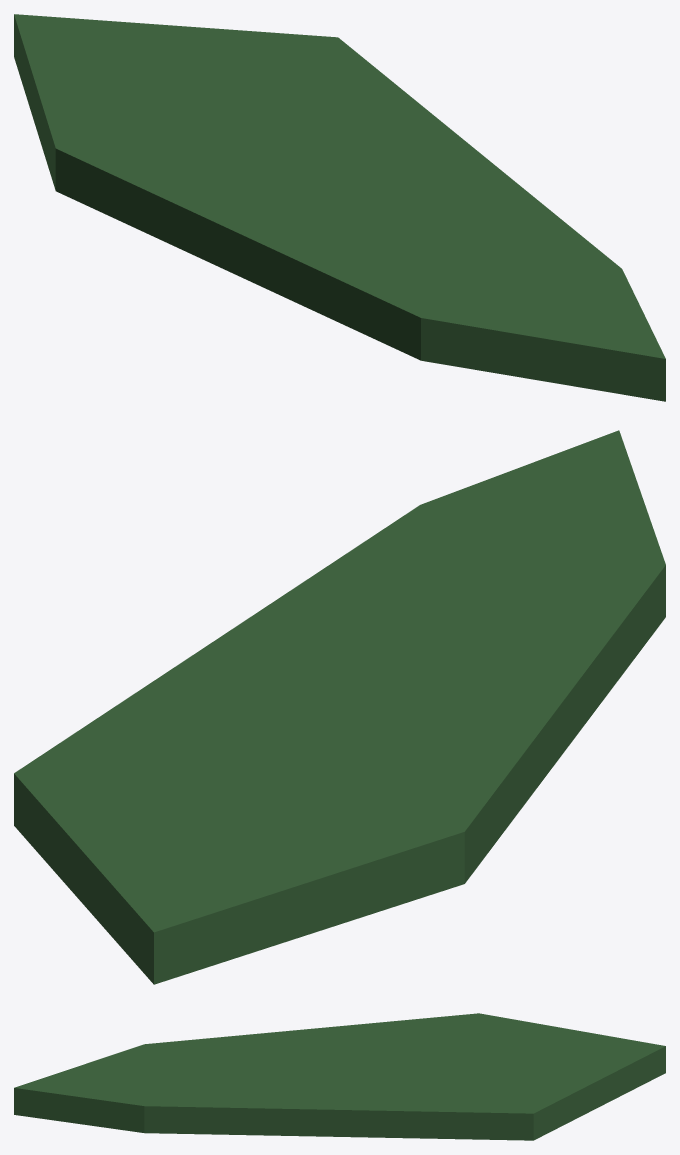
The model's file is x_proval_00_210_1_rmstrd.fbx.
The picture shows the model from 3 angles, top to bottom: view 1: azimuth 30°, elevation 25°; view 2: azimuth 150°, elevation 25°; view 3: azimuth 270°, elevation 25°; orthographic projection. The views are drawn at different scales.
Visible parts, largest first — view 1: x_proval_00_210_1_rmstrd1; view 2: x_proval_00_210_1_rmstrd1; view 3: x_proval_00_210_1_rmstrd1.
Boxes of the visible parts, x1=… form: x_proval_00_210_1_rmstrd1: x1=14, y1=14, x2=665, y2=401; x_proval_00_210_1_rmstrd1: x1=14, y1=430, x2=665, y2=984; x_proval_00_210_1_rmstrd1: x1=14, y1=1013, x2=665, y2=1140.
Size of the model in its own units: 1.59 by 0.2 by 4.37.
